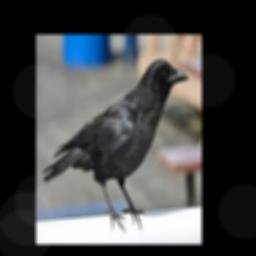Crow: (43, 57, 189, 229)
